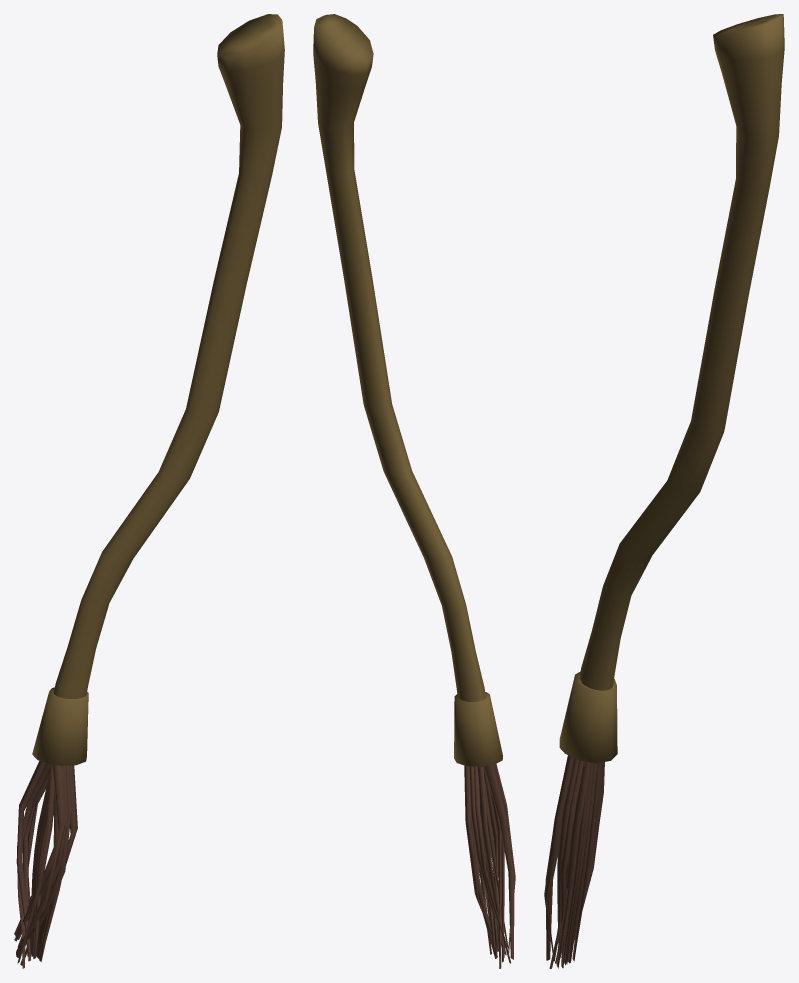
File: Broom.fbx
The picture shows the model from 3 angles, left to right: view 1: azimuth 30°, elevation 25°; view 2: azimuth 150°, elevation 25°; view 3: azimuth 330°, elevation 25°; orthographic projection. The views are drawn at different scales.
Parts seen in each view (by area): view 1: Broom_Handle1, Broom_Brush, Broom_Handle2; view 2: Broom_Handle1, Broom_Brush, Broom_Handle2; view 3: Broom_Handle1, Broom_Brush, Broom_Handle2.
Boxes of the visible parts, x1,y1,x2,y2 form: Broom_Handle1: (54, 14, 284, 698); Broom_Brush: (14, 761, 77, 968); Broom_Handle2: (32, 687, 88, 765); Broom_Handle1: (313, 14, 485, 702); Broom_Brush: (464, 763, 515, 968); Broom_Handle2: (454, 692, 502, 766); Broom_Handle1: (579, 14, 784, 690); Broom_Brush: (544, 755, 604, 968); Broom_Handle2: (559, 671, 617, 763).
Size of the model in its own units: 769 by 2861 by 320.
